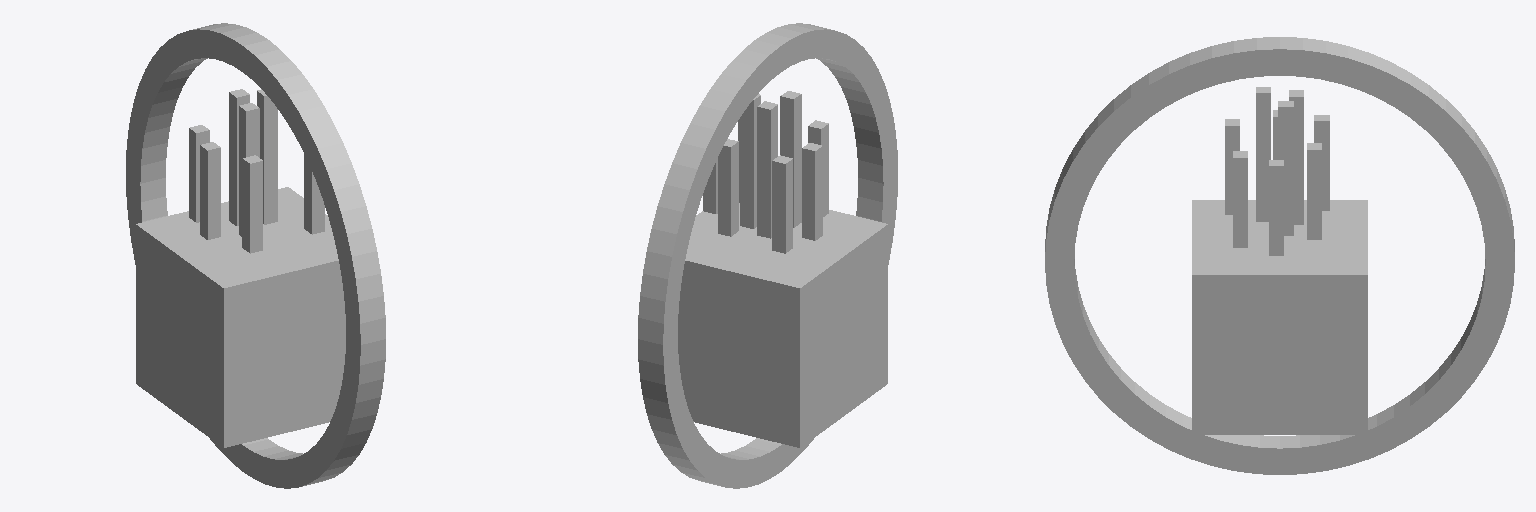
The model's file is SwiftCubePU.obj.
3 views of the same model, side by side, from view 1: azimuth 30°, elevation 25°; view 2: azimuth 150°, elevation 25°; view 3: azimuth 270°, elevation 25° (orthographic).
Parts seen in each view (by area): view 1: SwiftCube_Cube.011, Frame_Cylinder, SpeedCube_Cube.012, SpeedCube.005_Cube.017, SpeedCube.004_Cube.016, SpeedCube.002_Cube.014, SpeedCube.001_Cube.013, SpeedCube.003_Cube.015, SpeedCube.006_Cube.018; view 2: SwiftCube_Cube.011, Frame_Cylinder, SpeedCube.002_Cube.014, SpeedCube_Cube.012, SpeedCube.001_Cube.013, SpeedCube.004_Cube.016, SpeedCube.003_Cube.015, SpeedCube.008_Cube.020, SpeedCube.005_Cube.017, SpeedCube.007_Cube.019; view 3: Frame_Cylinder, SwiftCube_Cube.011, SpeedCube.001_Cube.013, SpeedCube_Cube.012, SpeedCube.008_Cube.020, SpeedCube.006_Cube.018, SpeedCube.007_Cube.019, SpeedCube.002_Cube.014, SpeedCube.005_Cube.017, SpeedCube.003_Cube.015.
Boxes of the visible parts, x1=… form: SwiftCube_Cube.011: x1=136, y1=187, x2=345, y2=447; Frame_Cylinder: x1=126, y1=23, x2=385, y2=488; SpeedCube_Cube.012: x1=257, y1=89, x2=277, y2=224; SpeedCube.005_Cube.017: x1=242, y1=155, x2=262, y2=253; SpeedCube.004_Cube.016: x1=200, y1=142, x2=220, y2=239; SpeedCube.002_Cube.014: x1=229, y1=89, x2=249, y2=225; SpeedCube.001_Cube.013: x1=239, y1=103, x2=259, y2=236; SpeedCube.003_Cube.015: x1=189, y1=125, x2=209, y2=222; SpeedCube.006_Cube.018: x1=304, y1=154, x2=324, y2=234; SwiftCube_Cube.011: x1=678, y1=203, x2=887, y2=447; Frame_Cylinder: x1=638, y1=23, x2=897, y2=488; SpeedCube.002_Cube.014: x1=757, y1=101, x2=777, y2=238; SpeedCube_Cube.012: x1=740, y1=94, x2=760, y2=228; SpeedCube.001_Cube.013: x1=780, y1=91, x2=801, y2=227; SpeedCube.004_Cube.016: x1=802, y1=143, x2=822, y2=240; SpeedCube.003_Cube.015: x1=772, y1=155, x2=792, y2=253; SpeedCube.008_Cube.020: x1=718, y1=139, x2=738, y2=236; SpeedCube.005_Cube.017: x1=808, y1=120, x2=828, y2=216; SpeedCube.007_Cube.019: x1=703, y1=159, x2=717, y2=213; Frame_Cylinder: x1=1045, y1=37, x2=1514, y2=474; SwiftCube_Cube.011: x1=1192, y1=200, x2=1367, y2=434; SpeedCube.001_Cube.013: x1=1256, y1=87, x2=1270, y2=221; SpeedCube_Cube.012: x1=1278, y1=101, x2=1293, y2=235; SpeedCube.008_Cube.020: x1=1307, y1=143, x2=1321, y2=239; SpeedCube.006_Cube.018: x1=1233, y1=151, x2=1247, y2=247; SpeedCube.007_Cube.019: x1=1269, y1=160, x2=1283, y2=255; SpeedCube.002_Cube.014: x1=1289, y1=90, x2=1303, y2=224; SpeedCube.005_Cube.017: x1=1225, y1=119, x2=1239, y2=214; SpeedCube.003_Cube.015: x1=1314, y1=115, x2=1329, y2=210.
Size of the model in its own units: 60 by 160 by 160.